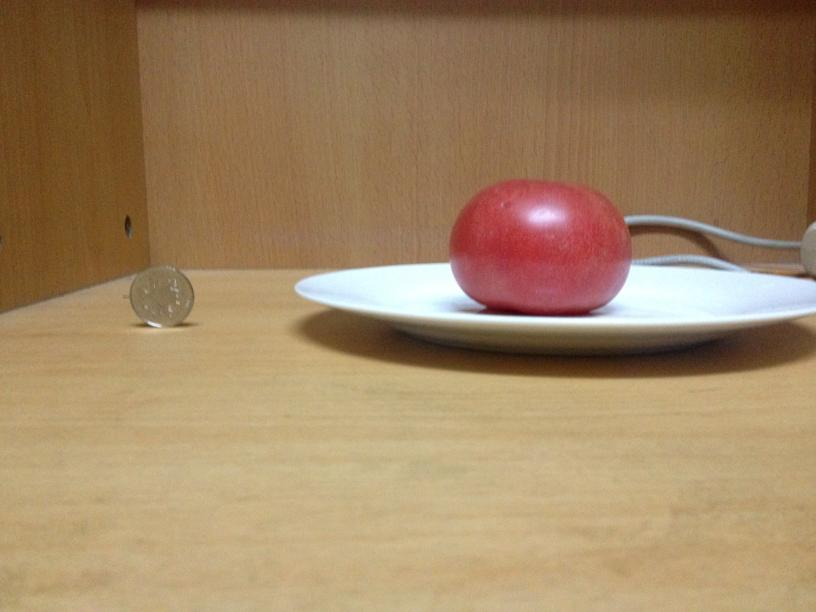coin: (124, 265, 196, 328)
tomato: (439, 177, 634, 312)
